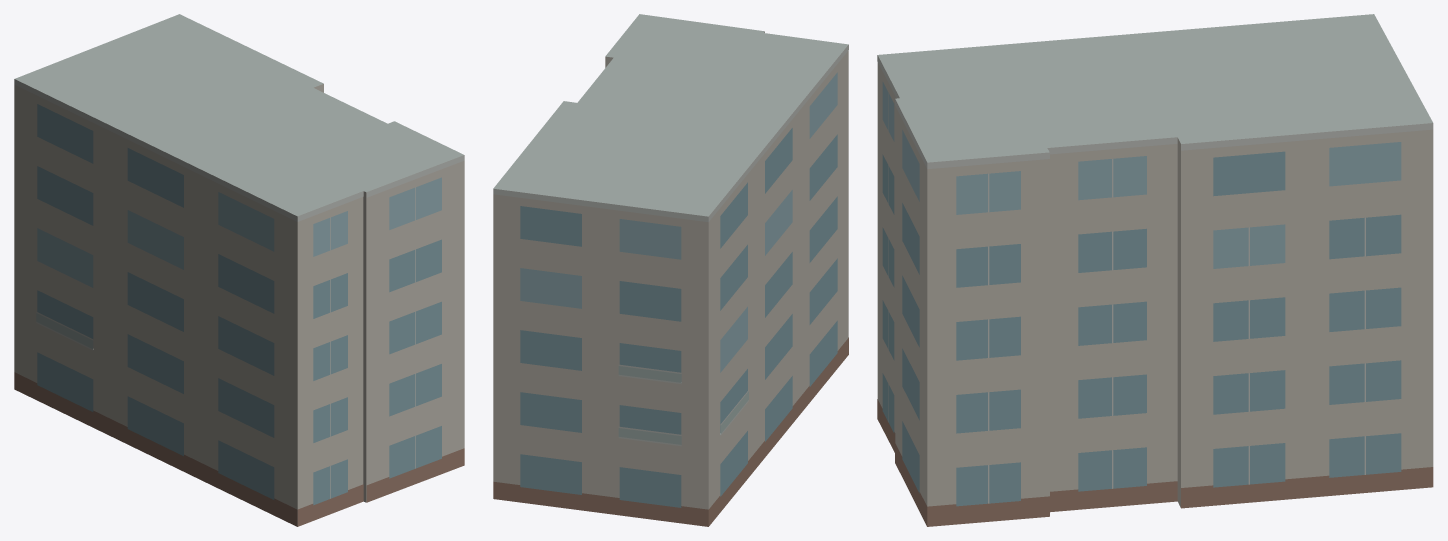
Rendered from survey-upis-32653618.glb.
3 views of the same model, side by side, from view 1: azimuth 30°, elevation 25°; view 2: azimuth 150°, elevation 25°; view 3: azimuth 270°, elevation 25° (orthographic). The views are drawn at different scales.
Parts seen in each view (by area): view 1: survey-upis-32653618.tmp; view 2: survey-upis-32653618.tmp; view 3: survey-upis-32653618.tmp.
Part boxes in pixels (left/top/right/bottom): survey-upis-32653618.tmp: left=14, top=14, right=464, bottom=526; survey-upis-32653618.tmp: left=493, top=14, right=848, bottom=526; survey-upis-32653618.tmp: left=877, top=14, right=1433, bottom=526.
Bounding box in the file's own units: 11.82 × 13.5 × 18.68.
